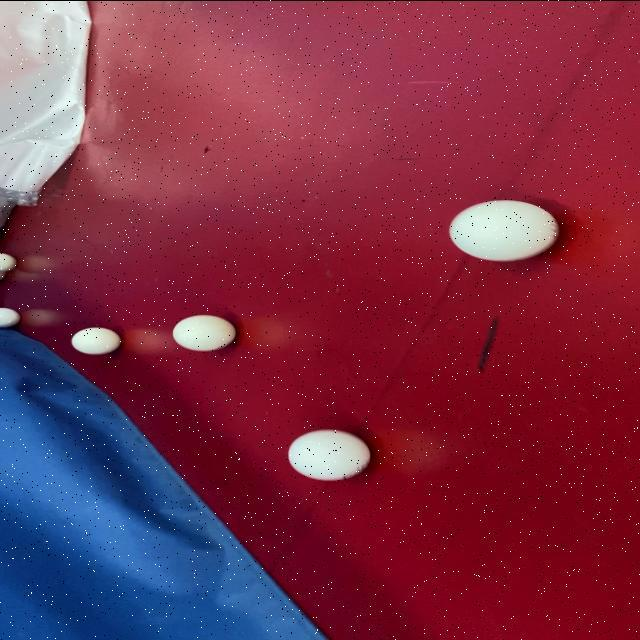ping-pong-ball: (444, 196, 564, 262), (283, 425, 374, 483), (168, 312, 242, 354), (67, 324, 124, 356)
